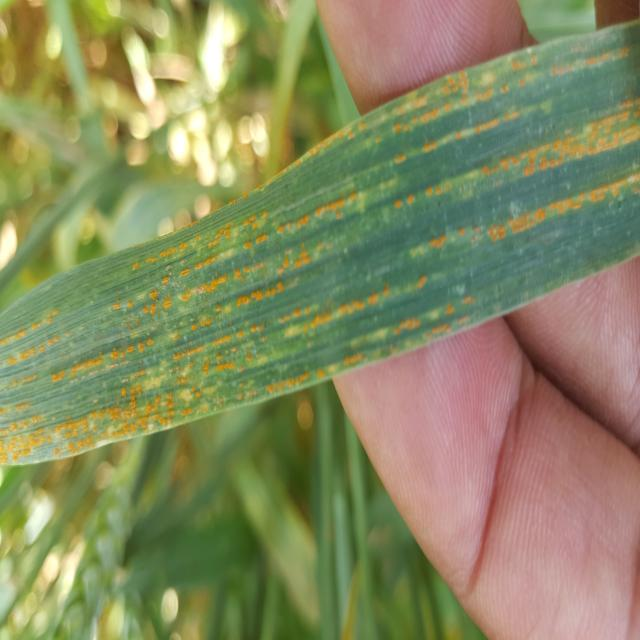leaf rust: (311, 162, 639, 498), (0, 262, 310, 612)
